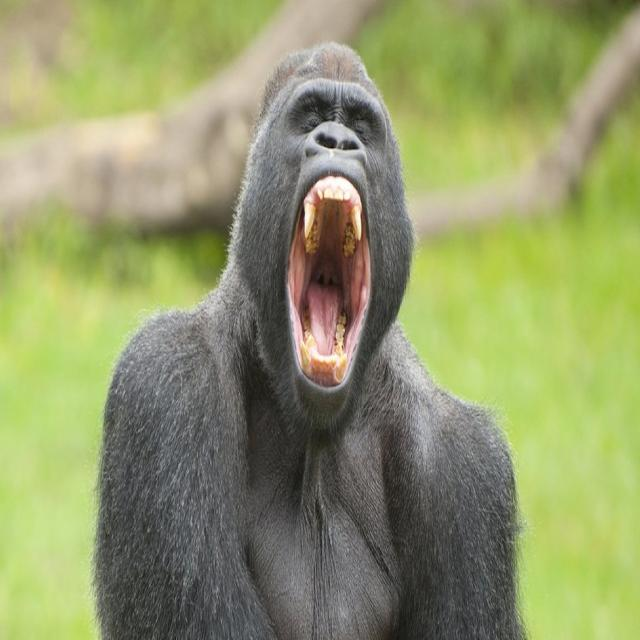Gorilla: (100, 49, 517, 640)
